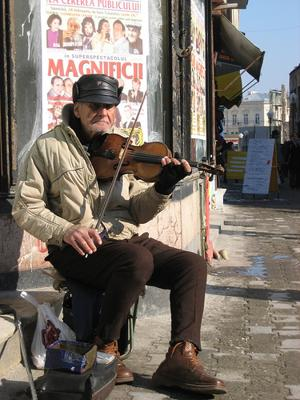person: (12, 76, 228, 400)
